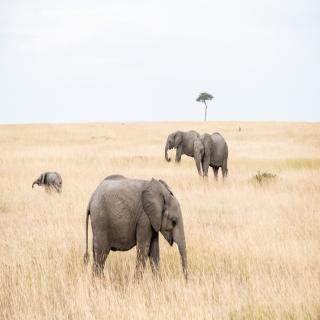Elephant: (86, 171, 194, 293), (192, 129, 234, 186), (160, 121, 198, 170), (28, 166, 68, 202)
